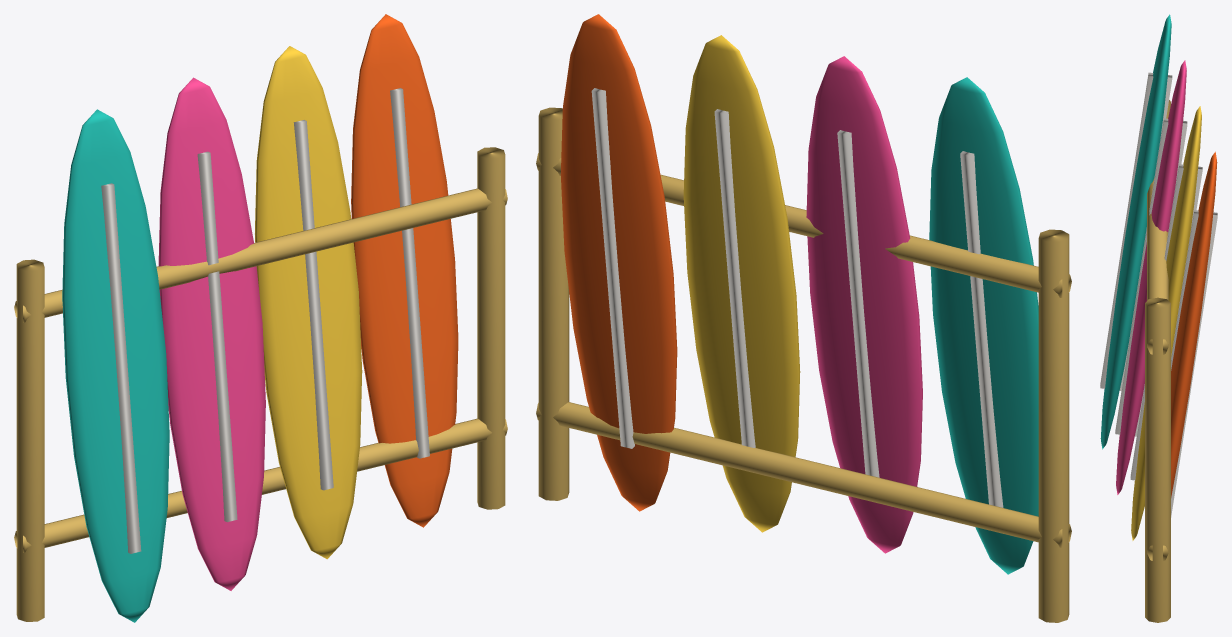
The model's file is lava_surf_rack.glb.
3 views of the same model, side by side, from view 1: azimuth 30°, elevation 25°; view 2: azimuth 150°, elevation 25°; view 3: azimuth 270°, elevation 25° (orthographic). The views are drawn at different scales.
Visible parts, largest first — view 1: SurfRack; view 2: SurfRack; view 3: SurfRack.
Part boxes in pixels (bbox=[...]): SurfRack: bbox=[14, 14, 507, 622]; SurfRack: bbox=[536, 14, 1071, 622]; SurfRack: bbox=[1100, 14, 1217, 622].
Size of the model in its own units: 2.32 by 2.22 by 0.5416.
